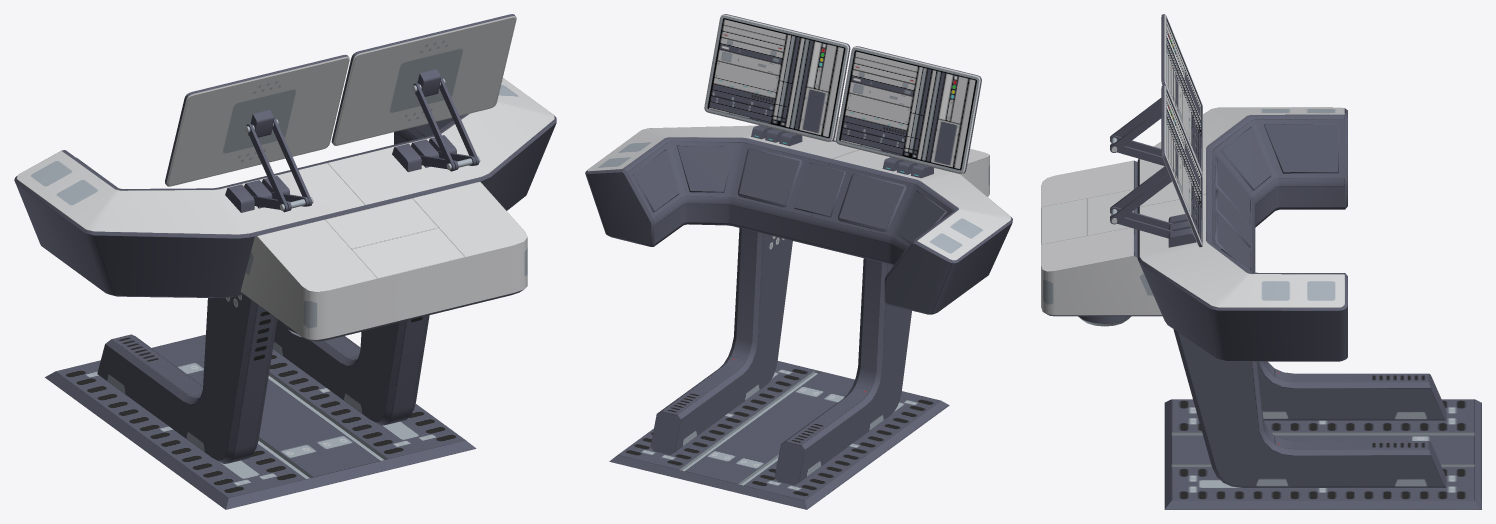
The model's file is Cockpit_Tech_03_Rev_E.FBX.
3 renders of one model, left to right at view 1: azimuth 30°, elevation 25°; view 2: azimuth 150°, elevation 25°; view 3: azimuth 270°, elevation 25°, orthographic. The views are drawn at different scales.
Parts seen in each view (by area): view 1: Cockpit_Tech_03_Rev_E, Screen_Part_Left, Screen_Part_Right, Screen_Axis_Right_02, Screen_Axis_Left_02, Articulated_TV_Screen_Left, Articulated_TV_Screen_Right, Screen_Axis_Right_01, Screen_Axis_Left_01; view 2: Cockpit_Tech_03_Rev_E, Screen_C, Screen_A, Screen_Part_Left, Screen_Part_Right, Articulated_TV_Screen_Left, Articulated_TV_Screen_Right; view 3: Cockpit_Tech_03_Rev_E, Screen_C, Screen_A, Screen_Part_Left, Screen_Axis_Left_02, Screen_Axis_Right_02, Screen_Part_Right, Screen_Axis_Left_01, Screen_Axis_Right_01, Articulated_TV_Screen_Left.
Boxes of the visible parts, left/top/right/bottom form: Cockpit_Tech_03_Rev_E: left=14, top=78, right=556, bottom=509; Screen_Part_Left: left=331, top=14, right=516, bottom=145; Screen_Part_Right: left=165, top=54, right=349, bottom=186; Screen_Axis_Right_02: left=245, top=118, right=312, bottom=212; Screen_Axis_Left_02: left=412, top=77, right=478, bottom=171; Articulated_TV_Screen_Left: left=392, top=135, right=456, bottom=172; Articulated_TV_Screen_Right: left=225, top=176, right=289, bottom=212; Screen_Axis_Right_01: left=253, top=192, right=313, bottom=210; Screen_Axis_Left_01: left=420, top=151, right=480, bottom=170; Cockpit_Tech_03_Rev_E: left=585, top=116, right=1012, bottom=509; Screen_C: left=839, top=50, right=976, bottom=170; Screen_A: left=707, top=18, right=845, bottom=137; Screen_Part_Left: left=704, top=14, right=850, bottom=141; Screen_Part_Right: left=836, top=46, right=981, bottom=173; Articulated_TV_Screen_Left: left=751, top=125, right=802, bottom=146; Articulated_TV_Screen_Right: left=882, top=157, right=933, bottom=178; Cockpit_Tech_03_Rev_E: left=1041, top=107, right=1481, bottom=509; Screen_C: left=1166, top=20, right=1201, bottom=168; Screen_A: left=1166, top=91, right=1201, bottom=239; Screen_Part_Left: left=1161, top=85, right=1202, bottom=247; Screen_Axis_Left_02: left=1110, top=165, right=1171, bottom=224; Screen_Axis_Right_02: left=1110, top=98, right=1161, bottom=152; Screen_Part_Right: left=1161, top=14, right=1202, bottom=175; Screen_Axis_Left_01: left=1110, top=206, right=1172, bottom=238; Screen_Axis_Right_01: left=1110, top=135, right=1165, bottom=165; Articulated_TV_Screen_Left: left=1168, top=214, right=1196, bottom=247.
Size of the model in its own units: 2.18 by 1.88 by 2.01.
